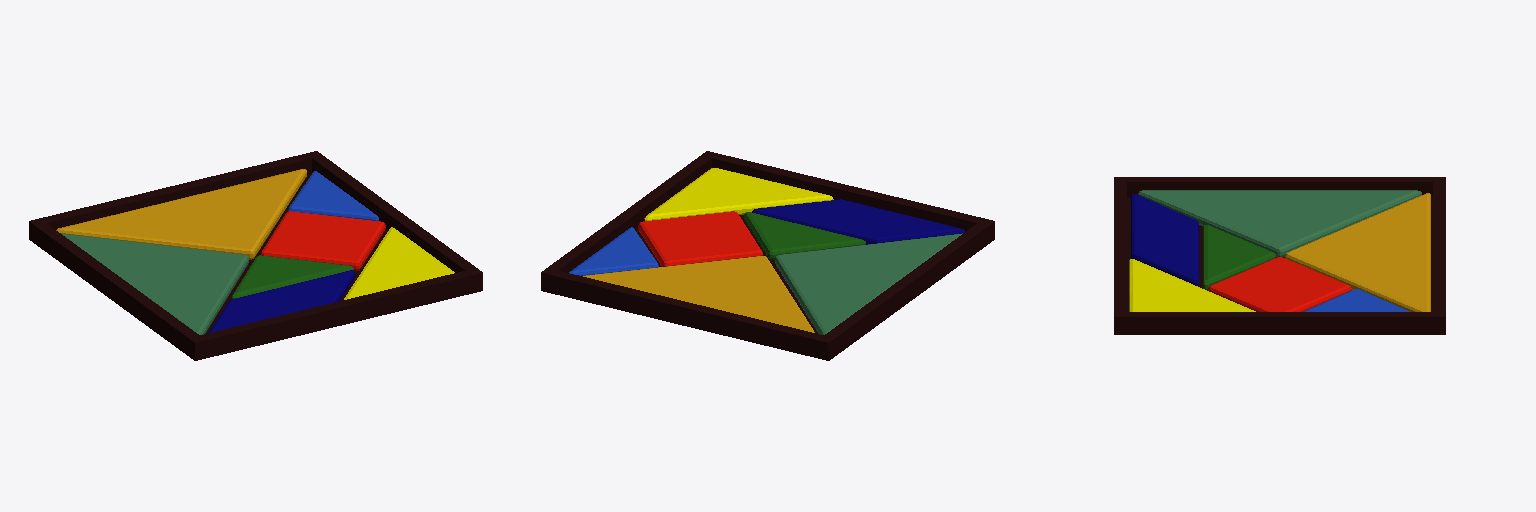
The model's file is tangram.obj.
3 renders of one model, left to right at view 1: azimuth 30°, elevation 25°; view 2: azimuth 150°, elevation 25°; view 3: azimuth 270°, elevation 25°, orthographic.
Parts seen in each view (by area): view 1: pCube1, polySurface5, polySurface2, polySurface3, polySurface7, polySurface4, polySurface6, polySurface1; view 2: pCube1, polySurface2, polySurface5, polySurface3, polySurface4, polySurface7, polySurface6, polySurface1; view 3: pCube1, polySurface2, polySurface5, polySurface3, polySurface7, polySurface4, polySurface6, polySurface1.
Part boxes in pixels (x1,y1,x2,y2): pCube1: (29,151,482,360); polySurface5: (56,169,306,259); polySurface2: (61,233,248,334); polySurface3: (261,211,385,270); polySurface7: (209,270,354,332); polySurface4: (344,227,454,299); polySurface6: (232,255,353,298); polySurface1: (288,171,378,220); pCube1: (541,151,994,360); polySurface2: (775,233,962,334); polySurface5: (583,256,814,332); polySurface3: (638,211,762,266); polySurface4: (644,168,833,220); polySurface7: (752,199,964,244); polySurface6: (744,212,865,259); polySurface1: (569,227,658,275); pCube1: (1114,177,1445,334); polySurface2: (1138,190,1421,256); polySurface5: (1285,193,1430,311); polySurface3: (1208,257,1351,311); polySurface7: (1131,194,1198,286); polySurface4: (1129,259,1255,311); polySurface6: (1203,225,1275,289); polySurface1: (1304,289,1409,311).
Size of the model in its own units: 13 by 0.7903 by 13.